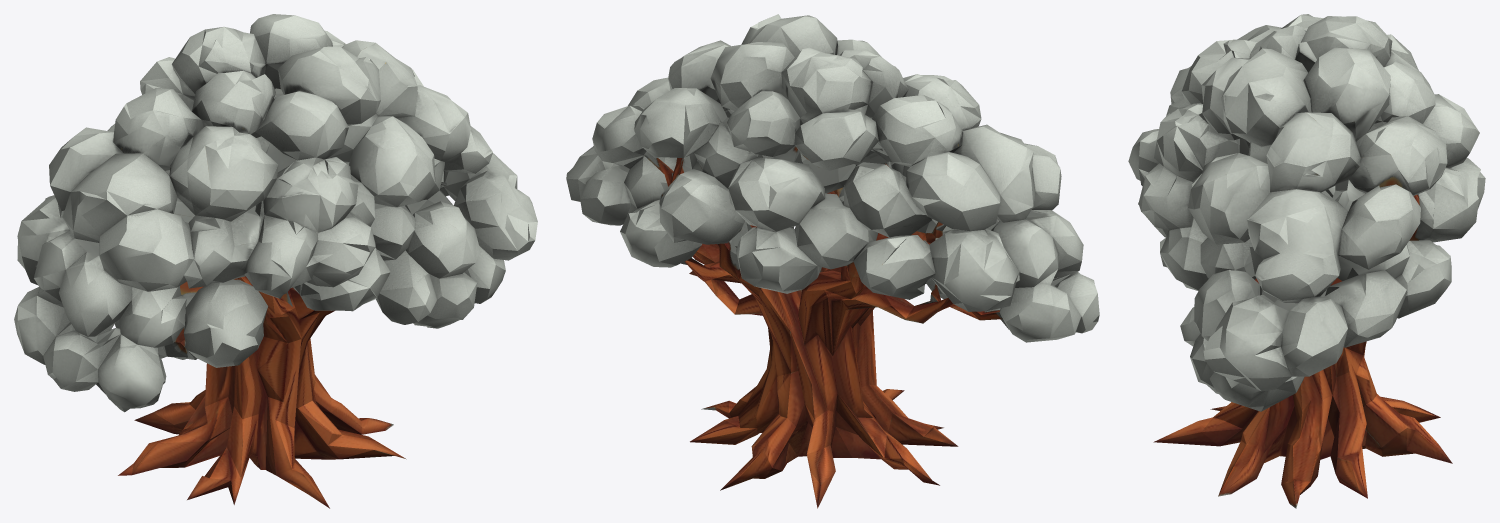
File: oak.glb
The picture shows the model from 3 angles, left to right: view 1: azimuth 30°, elevation 25°; view 2: azimuth 150°, elevation 25°; view 3: azimuth 270°, elevation 25°; orthographic projection. The views are drawn at different scales.
Visible parts, largest first — view 1: geometry_0; view 2: geometry_0; view 3: geometry_0.
Part boxes in pixels (x1,y1,x2,y2): geometry_0: (14,14,537,508); geometry_0: (566,14,1099,508); geometry_0: (1128,14,1485,508).
Bounding box in the file's own units: 7.49 × 5.9 × 4.56.
Materials: 1 (1 with a texture image).
